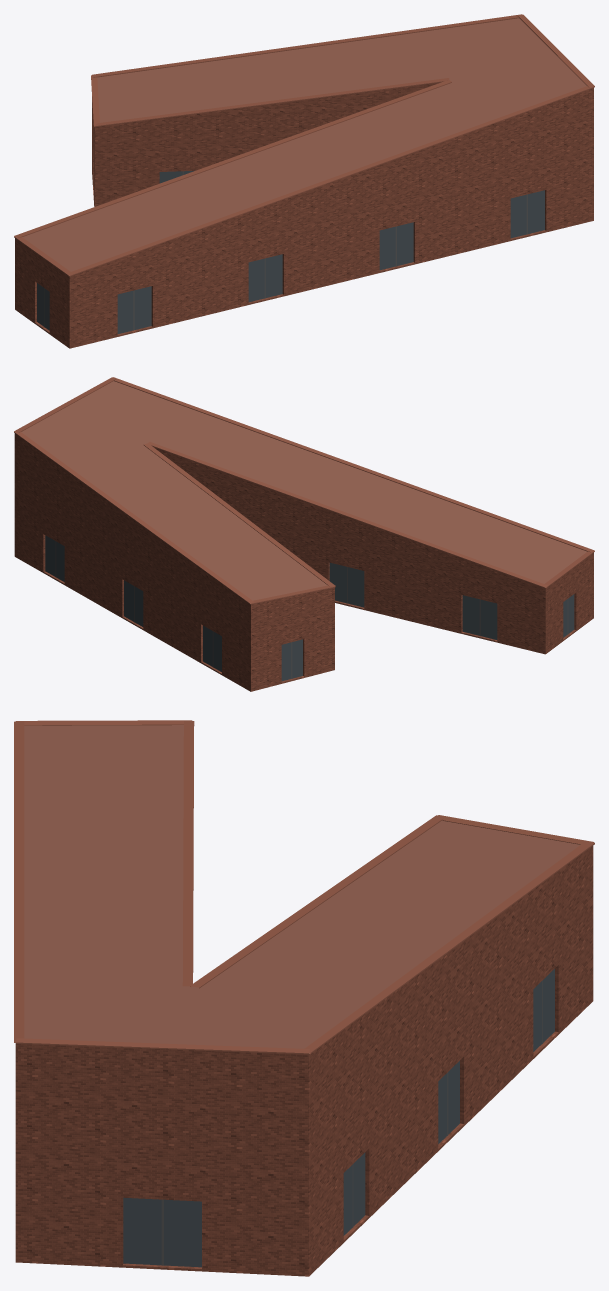
3 renders of one model, top to bottom at view 1: azimuth 30°, elevation 25°; view 2: azimuth 150°, elevation 25°; view 3: azimuth 270°, elevation 25°, orthographic. The views are drawn at different scales.
Visible parts, largest first — view 1: wisdomC__wall, wisdomC__roof, wisdomC__trim, wisdomC__glass; view 2: wisdomC__wall, wisdomC__roof, wisdomC__trim, wisdomC__glass, wisdomC__frame; view 3: wisdomC__wall, wisdomC__roof, wisdomC__trim, wisdomC__glass.
Part boxes in pixels (x1=…): wisdomC__wall: x1=15, y1=82, x2=593, y2=348; wisdomC__roof: x1=22, y1=18, x2=586, y2=275; wisdomC__trim: x1=14, y1=14, x2=594, y2=276; wisdomC__glass: x1=37, y1=170, x2=544, y2=333; wisdomC__wall: x1=14, y1=433, x2=593, y2=691; wisdomC__roof: x1=21, y1=381, x2=586, y2=603; wisdomC__trim: x1=14, y1=377, x2=594, y2=604; wisdomC__glass: x1=45, y1=535, x2=574, y2=681; wisdomC__frame: x1=55, y1=541, x2=568, y2=678; wisdomC__wall: x1=15, y1=846, x2=593, y2=1276; wisdomC__roof: x1=24, y1=725, x2=580, y2=1053; wisdomC__trim: x1=14, y1=720, x2=594, y2=1054; wisdomC__glass: x1=123, y1=969, x2=554, y2=1267.
Bounding box in the file's own units: 36.15 × 8.65 × 20.33.
Materials: 5 (1 with a texture image).
